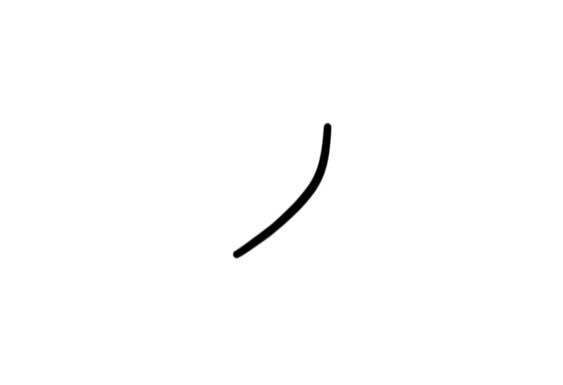no: (225, 115, 338, 265)
